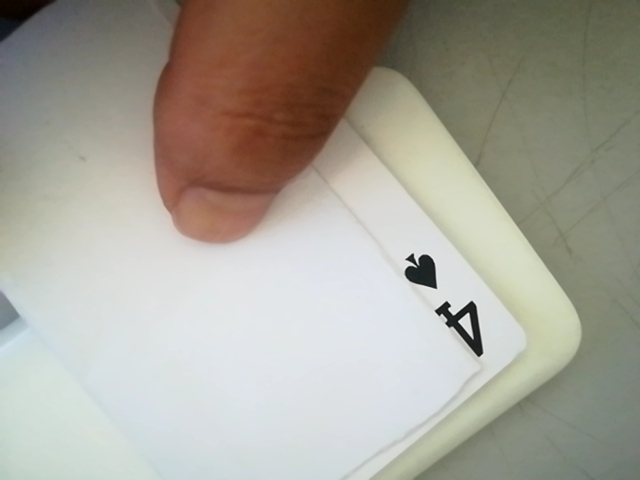ht 4: (386, 238, 509, 361)
